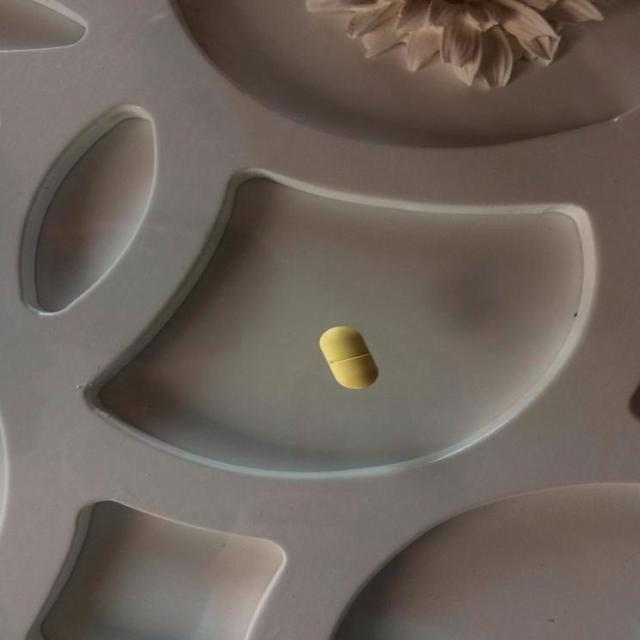pill: (304, 325, 399, 392)
